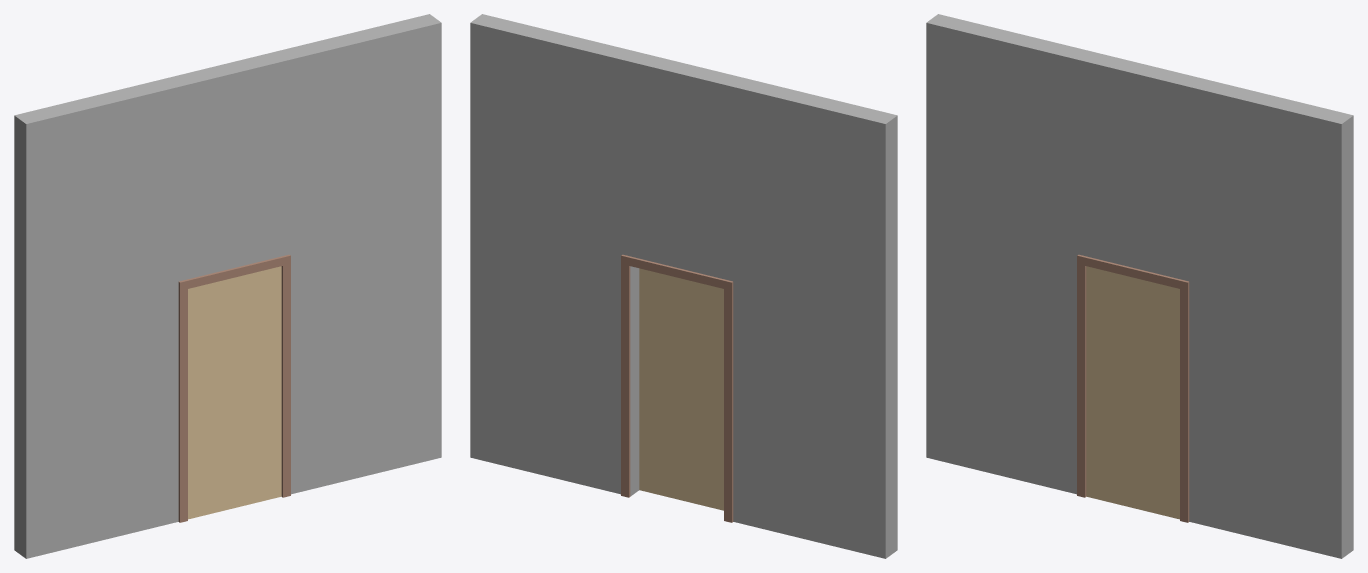
Rendered from SimpleWall.glb.
The picture shows the model from 3 angles, left to right: view 1: azimuth 30°, elevation 25°; view 2: azimuth 150°, elevation 25°; view 3: azimuth 330°, elevation 25°; orthographic projection.
Parts seen in each view (by area): view 1: product-4f1b8c13-1511-4092-8543-2812b6fba770-body, product-4f1b8c13-1511-4092-8543-2812b6fba78f-body; view 2: product-4f1b8c13-1511-4092-8543-2812b6fba770-body, product-4f1b8c13-1511-4092-8543-2812b6fba78f-body; view 3: product-4f1b8c13-1511-4092-8543-2812b6fba770-body, product-4f1b8c13-1511-4092-8543-2812b6fba78f-body.
Part boxes in pixels (x1=…): product-4f1b8c13-1511-4092-8543-2812b6fba770-body: x1=14, y1=14, x2=441, y2=558; product-4f1b8c13-1511-4092-8543-2812b6fba78f-body: x1=178, y1=254, x2=290, y2=522; product-4f1b8c13-1511-4092-8543-2812b6fba770-body: x1=470, y1=14, x2=897, y2=558; product-4f1b8c13-1511-4092-8543-2812b6fba78f-body: x1=621, y1=254, x2=733, y2=522; product-4f1b8c13-1511-4092-8543-2812b6fba770-body: x1=926, y1=14, x2=1353, y2=558; product-4f1b8c13-1511-4092-8543-2812b6fba78f-body: x1=1077, y1=254, x2=1189, y2=522.
Bounding box in the file's own units: 4 × 4 × 0.25.
